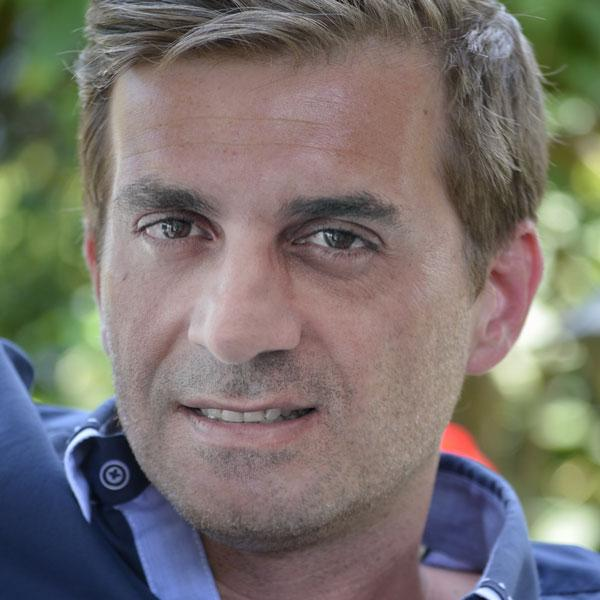Eyes: (281, 208, 387, 268), (127, 199, 222, 258)
